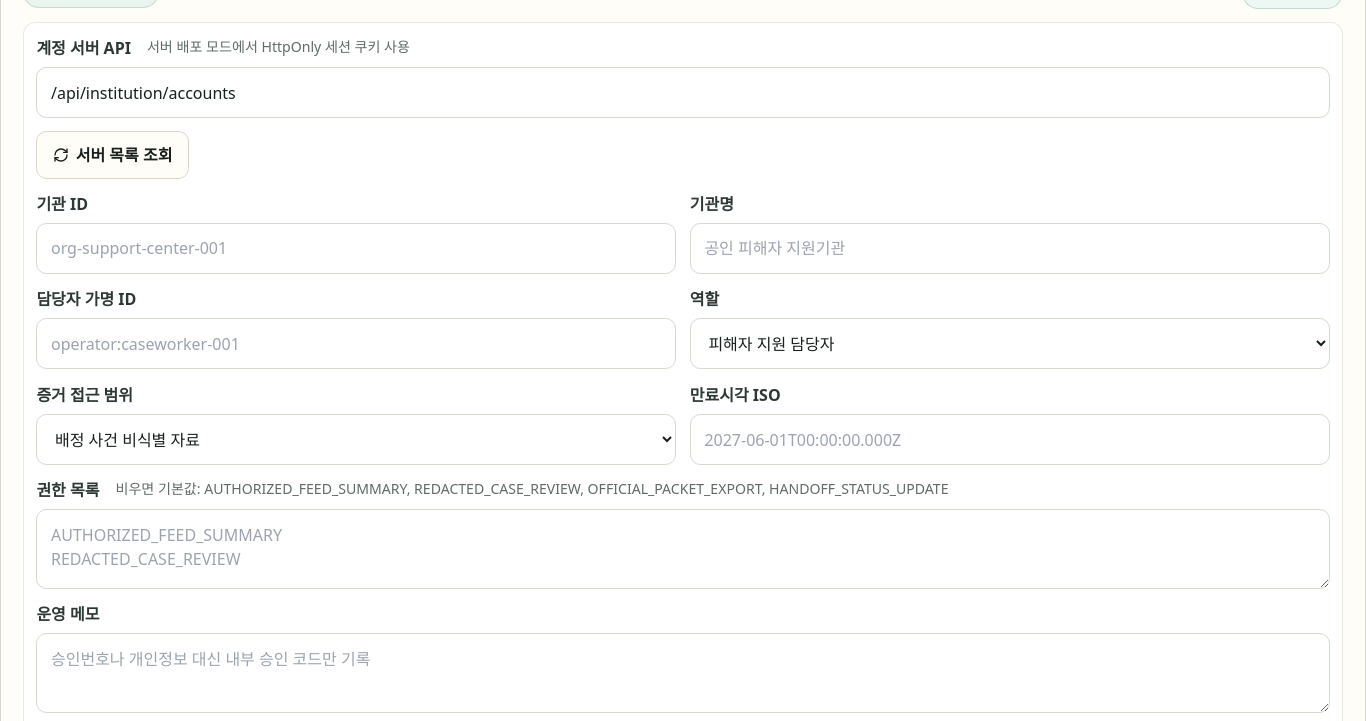
InstitutionAccountAdminPanel › lists server-provisioned institution accounts with protected request headers
Click the button "서버 목록 조회" at (112, 155), box [36, 131, 189, 179]
(page scrolled)
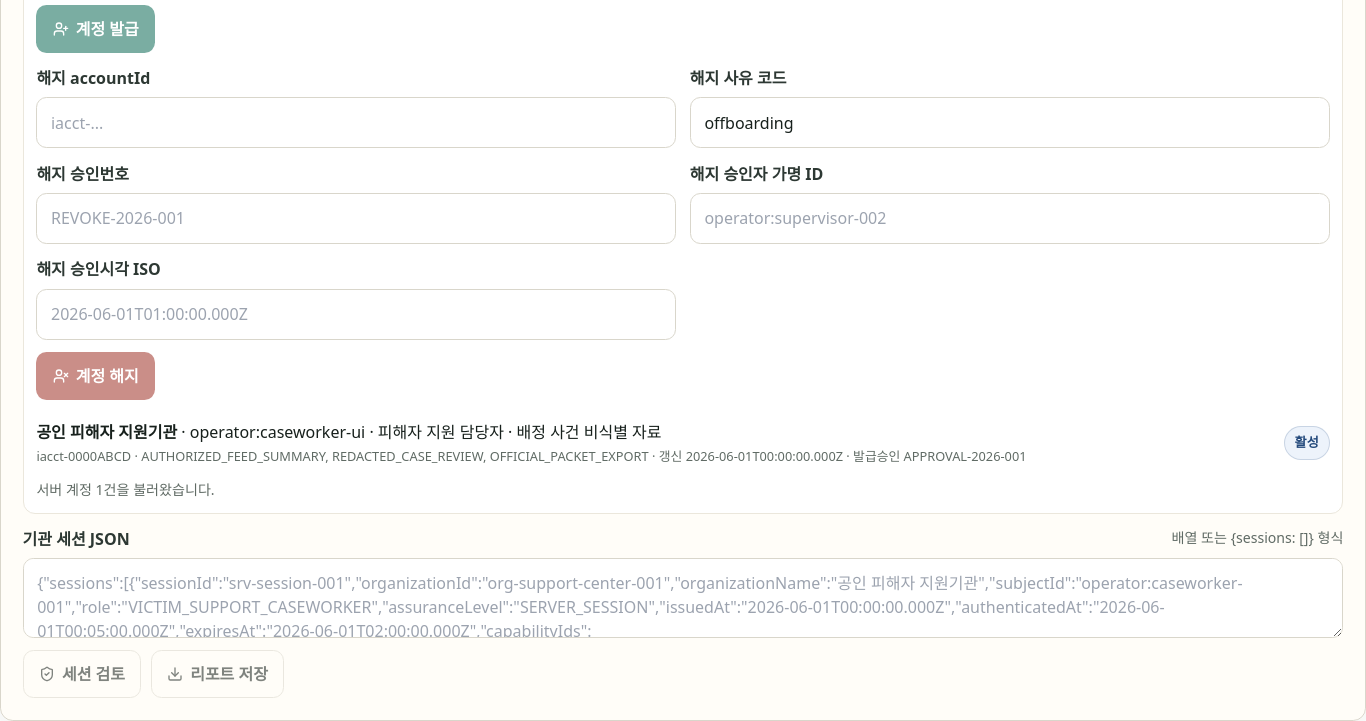
Check: the text "서버 계정 1건을 불러왔습니다." is shown, box [36, 480, 215, 499]
Check: the text "공인 피해자 지원기관" is shown, box [36, 421, 177, 443]
Check: the text "발급승인 APPROVAL-2026-001" is shown, box [843, 447, 1026, 465]
